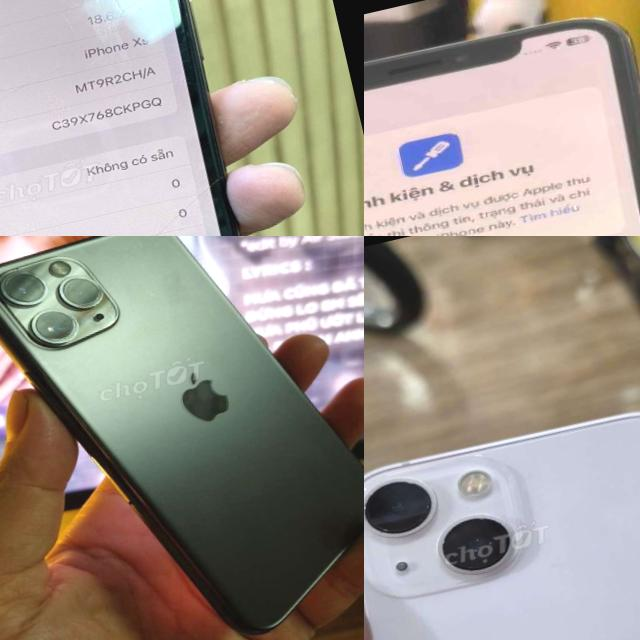physical_damage: (0, 0, 288, 236)
